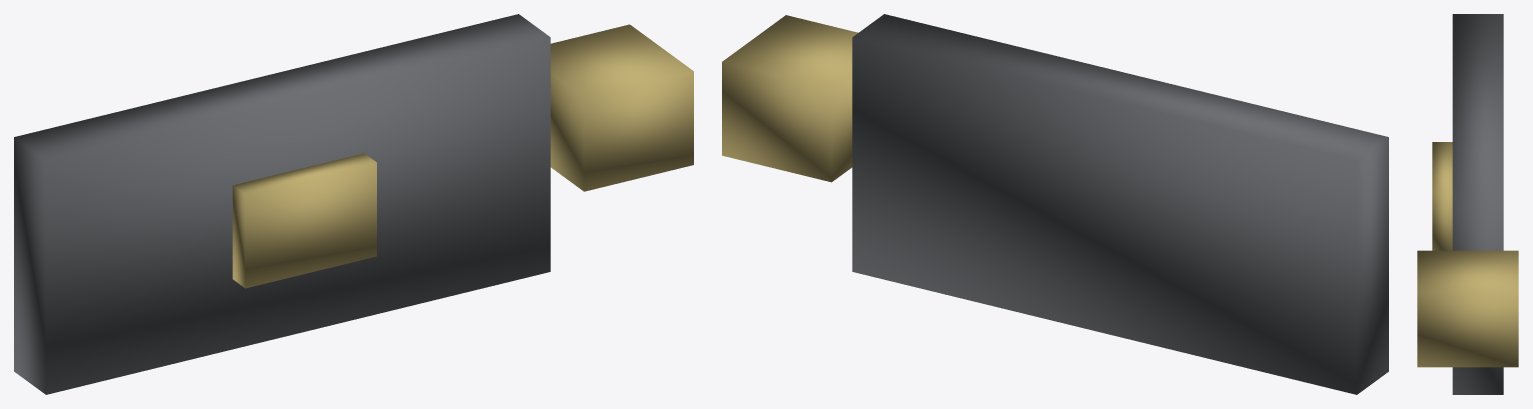
File: floor_indicator_14.glb
3 views of the same model, side by side, from view 1: azimuth 30°, elevation 25°; view 2: azimuth 150°, elevation 25°; view 3: azimuth 270°, elevation 25° (orthographic). The views are drawn at different scales.
Visible parts, largest first — view 1: world; view 2: world; view 3: world.
Part boxes in pixels (left/top/right/bottom): world: left=14, top=14, right=693, bottom=394; world: left=722, top=14, right=1388, bottom=394; world: left=1417, top=14, right=1518, bottom=394.
Bounding box in the file's own units: 0.5472 × 0.196 × 0.097.
